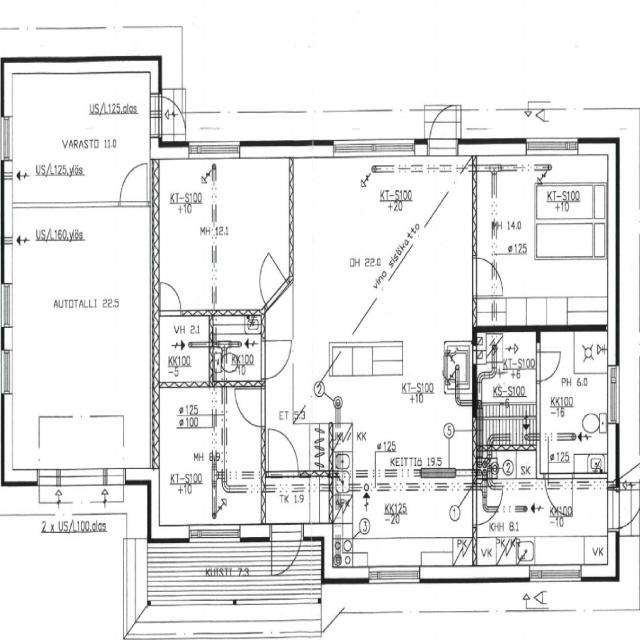door: (248, 250, 289, 310), (271, 523, 302, 584), (429, 101, 456, 156), (150, 96, 189, 134), (268, 428, 298, 477), (607, 489, 640, 529), (120, 163, 147, 208), (261, 340, 292, 379), (545, 473, 572, 517), (235, 388, 265, 426), (472, 259, 503, 295), (472, 490, 502, 524), (536, 352, 561, 381), (161, 281, 180, 316)
